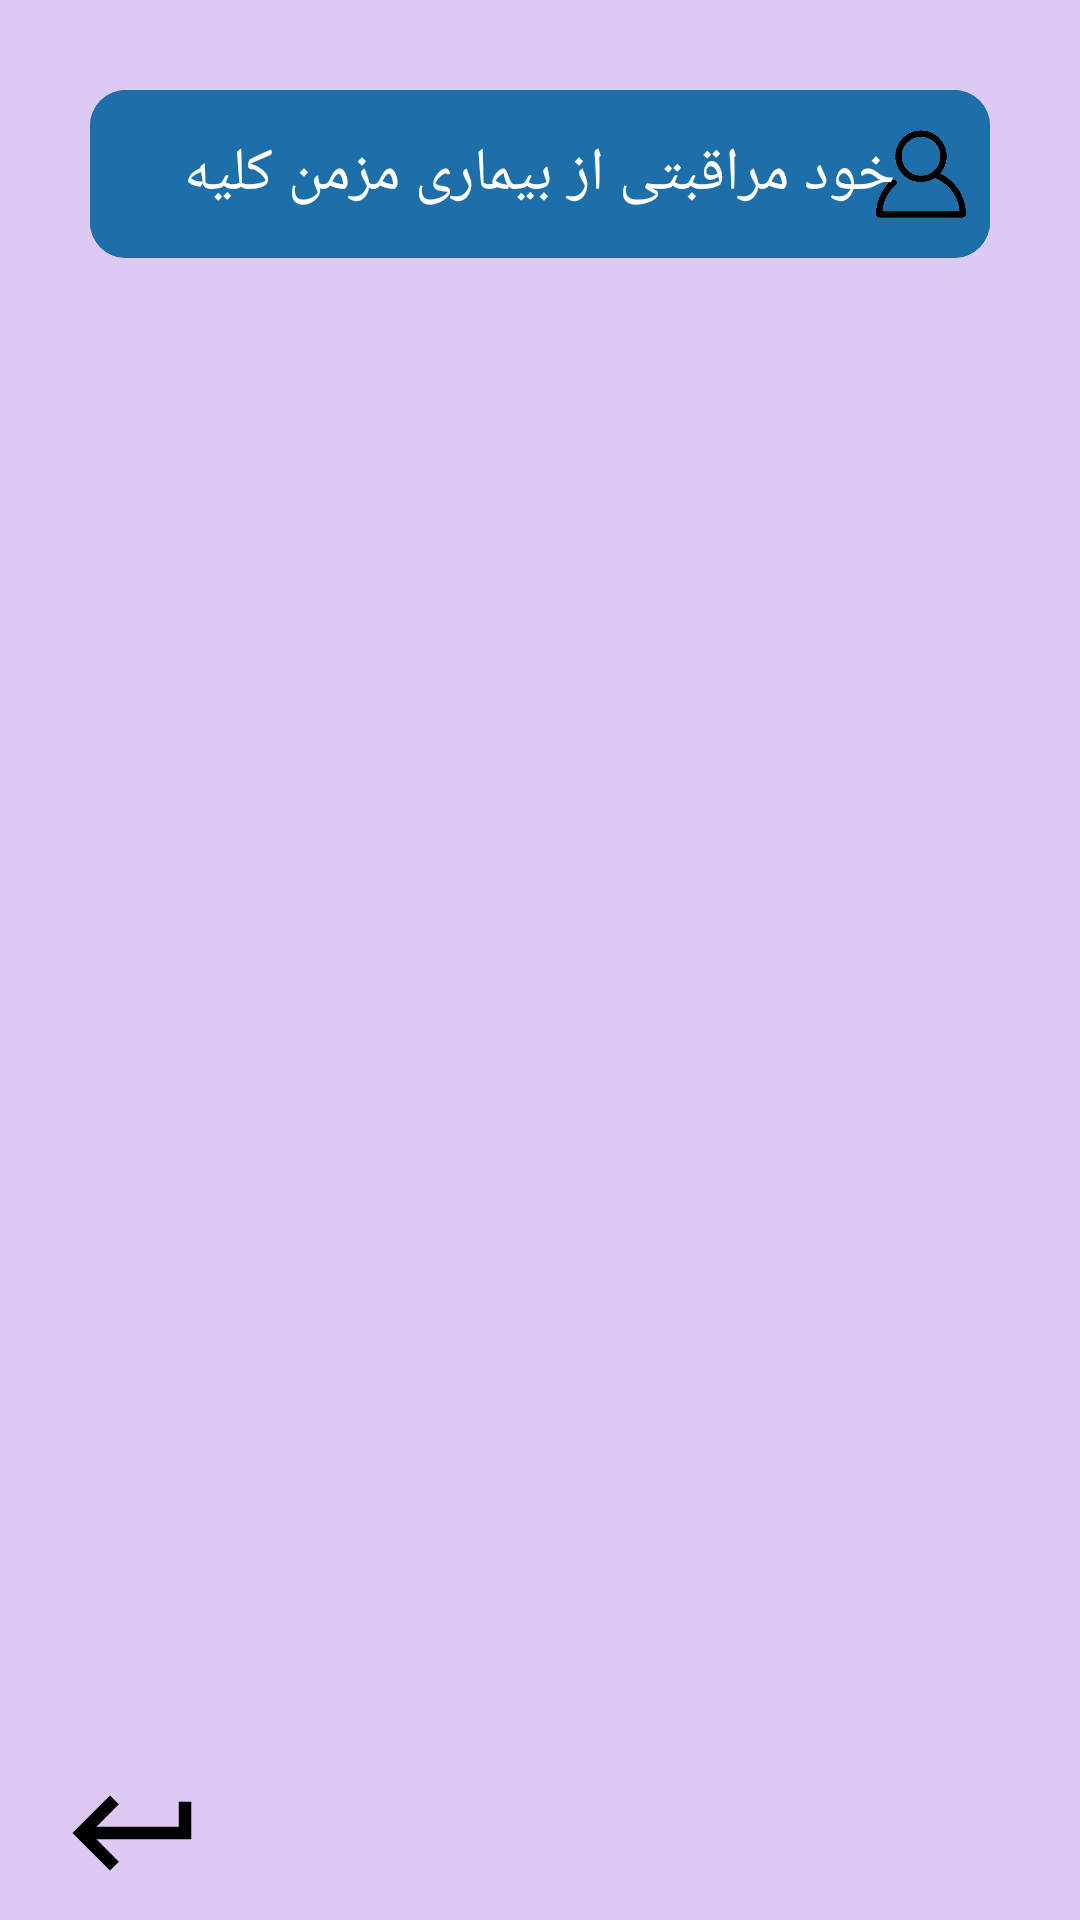

Icons on this 1080 × 1920 Android screen, each with the point to tap as [x,y]:
keyboard return: [132,1833]
